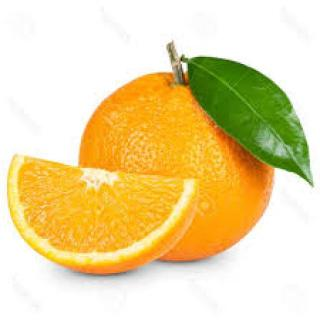orange: (72, 39, 298, 275), (1, 151, 211, 285)
